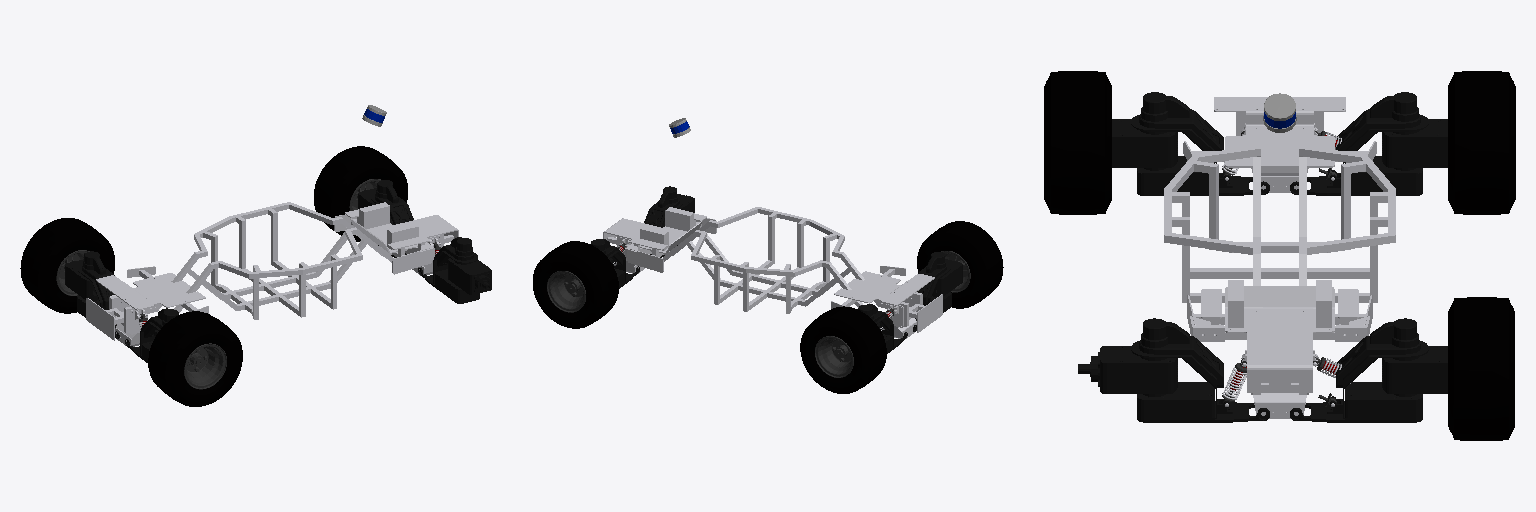
--- Render facts (derived) ---
The picture shows the robot from 3 angles, left to right: view 1: azimuth 30°, elevation 25°; view 2: azimuth 150°, elevation 25°; view 3: azimuth 270°, elevation 25°; orthographic projection.
Model m2 with 22 links and 21 joints (4 revolute, 16 continuous, 1 floating), rooted at world, posed every joint at zero.
Visible links, largest first — view 1: chassis, wheel_rb, wheel_lb, wheel_lf, steering_strut_rf, drive_motor_rf, steering_strut_lb, steering_strut_lf, steering_strut_rb, drive_motor_lb; view 2: chassis, wheel_lb, wheel_lf, wheel_rb, steering_strut_rb, steering_strut_rf, steering_strut_lb, steering_strut_lf, drive_motor_rb; view 3: chassis, wheel_lb, wheel_rb, wheel_lf, steering_strut_rf, steering_strut_lf, steering_strut_rb, steering_strut_lb, drive_motor_rf, drive_motor_lb, drive_motor_rb, drive_motor_lf (+1 smaller).
Boxes of the visible links, left/top/right/bottom form: chassis: left=86, top=105, right=458, bottom=346; wheel_rb: left=148, top=311, right=242, bottom=406; wheel_lb: left=20, top=218, right=114, bottom=313; wheel_lf: left=314, top=146, right=407, bottom=241; steering_strut_rf: left=418, top=237, right=479, bottom=303; drive_motor_rf: left=448, top=258, right=491, bottom=294; steering_strut_lb: left=77, top=251, right=119, bottom=338; steering_strut_lf: left=371, top=180, right=413, bottom=257; steering_strut_rb: left=125, top=308, right=178, bottom=362; drive_motor_lb: left=65, top=259, right=97, bottom=299; chassis: left=603, top=118, right=942, bottom=338; wheel_lb: left=800, top=306, right=886, bottom=393; wheel_lf: left=533, top=241, right=618, bottom=328; wheel_rb: left=917, top=221, right=1003, bottom=308; steering_strut_rb: left=913, top=252, right=951, bottom=331; steering_strut_rf: left=644, top=186, right=682, bottom=257; steering_strut_lb: left=858, top=304, right=907, bottom=353; steering_strut_lf: left=591, top=239, right=639, bottom=288; drive_motor_rb: left=932, top=259, right=962, bottom=296; chassis: left=1164, top=93, right=1395, bottom=418; wheel_lb: left=1448, top=71, right=1515, bottom=214; wheel_rb: left=1044, top=71, right=1111, bottom=214; wheel_lf: left=1448, top=297, right=1514, bottom=440; steering_strut_rf: left=1131, top=318, right=1269, bottom=422; steering_strut_lf: left=1290, top=318, right=1428, bottom=422; steering_strut_rb: left=1131, top=92, right=1269, bottom=195; steering_strut_lb: left=1290, top=92, right=1428, bottom=195; drive_motor_rf: left=1078, top=346, right=1177, bottom=393; drive_motor_lb: left=1382, top=119, right=1447, bottom=167; drive_motor_rb: left=1112, top=119, right=1177, bottom=167; drive_motor_lf: left=1382, top=346, right=1447, bottom=393.
Size in the robot's own frame: 2.11 by 1.46 by 1.02 metres.
Meshes: 26 distinct files referenced, 21 mesh visuals loaded (21 Collada DAE); not drawn: 5 (reference not matched to a file when rendering).

The robot description file, URDF, robot "m2":
<?xml version="1.0"?>
<!-- created with Phobos 1.0.1 "Capricious Choutengan" -->
  <robot name="m2">
    
    <link name="world"/>
    
    <link name="chassis">
      <inertial>`
        <origin xyz="0 0 0" rpy="0 0 0"/>
        <mass value="0.01"/>
        <inertia ixx="0.001" ixy="0" ixz="0" iyy="0.001" iyz="0" izz="0.001"/>
      </inertial>
      <visual name="body_lights">
        <origin xyz="0.07415 0.00012 0.24822" rpy="0 0 0"/>
        <geometry>
          <mesh filename="package://m2_description/meshes/dae/body_lights.dae" scale="1.0 1.0 1.0"/>
        </geometry>
        <material name="01 - Default.001"/>
      </visual>
      <visual name="body_vis">
        <origin xyz="0.01142 0.00023 0.57838" rpy="0 0 0"/>
        <geometry>
          <mesh filename="package://m2_description/meshes/dae/Untitled.213.dae" scale="1.0 1.0 1.0"/>
        </geometry>
        <material name="01 - Default.001"/>
      </visual>
      <visual name="chassis_vis">
        <origin xyz="0 0 0" rpy="0 0 0"/>
        <geometry>
          <mesh filename="package://m2_description/meshes/dae/chassis_vis.dae" scale="1.0 1.0 1.0"/>
        </geometry>
        <material name="01 - Default.001"/>
      </visual>
      <visual name="vlp16_front_vis">
        <origin xyz="0.54676 0.00037 0.72861" rpy="1.5708 0.46426 0"/>
        <geometry>
          <mesh filename="package://m2_description/meshes/dae/vlp16_front_vis.dae" scale="1.0 1.0 1.0"/>
        </geometry>
        <material name="01 - Default.001"/>
      </visual>
      <visual name="vlp16_top_vis">
        <origin xyz="0.11051 0.0014 1.04234" rpy="-1.5708 0 0"/>
        <geometry>
          <mesh filename="package://m2_description/meshes/dae/vlp16_top_vis.dae" scale="1.0 1.0 1.0"/>
        </geometry>
        <material name="01 - Default.001"/>
      </visual>
      <visual name="vlp32c_vis">
        <origin xyz="0.11195 0.00142 1.30874" rpy="-1.5708 0 0"/>
        <geometry>
          <mesh filename="package://m2_description/meshes/dae/vlp32c_vis.dae" scale="1.0 1.0 1.0"/>
        </geometry>
        <material name="01 - Default.001"/>
      </visual>
      <collision name="body">
        <origin xyz="0.00514 0.00023 0.42524" rpy="0 0 0"/>
        <geometry>
          <box size="2.01448 0.94935 1.16925"/>
        </geometry>
      </collision>
      <collision name="chassis">
        <origin xyz="0.01121 0.00023 0.02431" rpy="0 0 0"/>
        <geometry>
          <box size="1.9958 0.72 0.35508"/>
        </geometry>
      </collision>
      <collision name="vlp16_front">
        <origin xyz="0.55851 0.00023 0.74921" rpy="3.14159 0.46426 0"/>
        <geometry>
          <cylinder radius="0.05164" length="0.07275"/>
        </geometry>
      </collision>
      <collision name="vlp16_top">
        <origin xyz="0.11195 0.00142 1.07434" rpy="0 0 0"/>
        <geometry>
          <cylinder radius="0.05164" length="0.08686"/>
        </geometry>
      </collision>
      <collision name="vlp32c">
        <origin xyz="0.11195 0.0019 1.25215" rpy="0 0 0"/>
        <geometry>
          <cylinder radius="0.06976" length="0.25"/>
        </geometry>
      </collision>
    </link>

    <link name="drive_motor_lb">
      <inertial>
        <origin xyz="0 0 0" rpy="0 0 0"/>
        <mass value="0.001"/>
        <inertia ixx="0.001" ixy="0" ixz="0" iyy="0.001" iyz="0" izz="0.001"/>
      </inertial>
      <visual name="drive_motor_lb_vis">
        <origin xyz="0 0 0" rpy="0 0 0"/>
        <geometry>
          <mesh filename="package://m2_description/meshes/dae/drive_motor_lb_vis.dae" scale="1.0 1.0 1.0"/>
        </geometry>
        <material name="01 - Default.001"/>
      </visual>
      <collision name="drive_motor_lb_vis">
        <origin xyz="0 0.09943 0.0535" rpy="0 0 0"/>
        <geometry>
          <box size="0.129 0.34444 0.107"/>
        </geometry>
      </collision>
    </link>

    <link name="drive_motor_lf">
      <inertial>
        <origin xyz="0 0 0" rpy="0 0 0"/>
        <mass value="0.001"/>
        <inertia ixx="0.001" ixy="0" ixz="0" iyy="0.001" iyz="0" izz="0.001"/>
      </inertial>
      <visual name="drive_motor_lf_vis">
        <origin xyz="0 0 0" rpy="0 0 0"/>
        <geometry>
          <mesh filename="package://m2_description/meshes/dae/drive_motor_lf_vis.dae" scale="1.0 1.0 1.0"/>
        </geometry>
        <material name="01 - Default.001"/>
      </visual>
      <collision name="drive_motor_lf">
        <origin xyz="0 0.08243 0.0535" rpy="0 0 0"/>
        <geometry>
          <box size="0.129 0.31044 0.107"/>
        </geometry>
      </collision>
    </link>

    <link name="drive_motor_rb">
      <inertial>
        <origin xyz="0 0 0" rpy="0 0 0"/>
        <mass value="0.001"/>
        <inertia ixx="0.001" ixy="0" ixz="0" iyy="0.001" iyz="0" izz="0.001"/>
      </inertial>
      <visual name="drive_motor_rb_vis">
        <origin xyz="0 0 0" rpy="0 0 0"/>
        <geometry>
          <mesh filename="package://m2_description/meshes/dae/drive_motor_rb_vis.dae" scale="1.0 1.0 1.0"/>
        </geometry>
        <material name="01 - Default.001"/>
      </visual>
      <collision name="drive_motor_rb">
        <origin xyz="0 -0.09943 0.0535" rpy="0 0 0"/>
        <geometry>
          <box size="0.129 0.34444 0.107"/>
        </geometry>
      </collision>
    </link>

    <link name="drive_motor_rf">
      <inertial>
        <origin xyz="0 0 0" rpy="0 0 0"/>
        <mass value="0.001"/>
        <inertia ixx="0.001" ixy="0" ixz="0" iyy="0.001" iyz="0" izz="0.001"/>
      </inertial>
      <visual name="drive_motor_rf_vis">
        <origin xyz="0 0 0" rpy="0 0 0"/>
        <geometry>
          <mesh filename="package://m2_description/meshes/dae/drive_motor_rf_vis.dae" scale="1.0 1.0 1.0"/>
        </geometry>
        <material name="01 - Default.001"/>
      </visual>
      <collision name="drive_motor_rf">
        <origin xyz="0 -0.08243 0.0535" rpy="0 0 0"/>
        <geometry>
          <box size="0.129 0.31044 0.107"/>
        </geometry>
      </collision>
    </link>

    <link name="shock_lb_1">
      <inertial>
        <origin xyz="0 0 0" rpy="0 0 0"/>
        <mass value="0.001"/>
        <inertia ixx="0.001" ixy="0" ixz="0" iyy="0.001" iyz="0" izz="0.001"/>
      </inertial>
      <visual name="shock_lb_1_vis">
        <origin xyz="0 0 0" rpy="0.37525 -1.5708 0"/>
        <geometry>
          <mesh filename="package://m2_description/meshes/dae/shock_lb_1_vis.dae" scale="1.0 1.0 1.0"/>
        </geometry>
        <material name="01 - Default.001"/>
      </visual>
      <collision name="shock_lb_1">
        <origin xyz="0.0564 0.02221 0" rpy="0.37525 -1.5708 0"/>
        <geometry>
          <cylinder radius="0.026" length="0.143"/>
        </geometry>
      </collision>
    </link>

    <link name="shock_lb_2">
      <inertial>
        <origin xyz="0 0 0" rpy="0 0 0"/>
        <mass value="0.001"/>
        <inertia ixx="0.001" ixy="0" ixz="0" iyy="0.001" iyz="0" izz="0.001"/>
      </inertial>
      <visual name="shock_lb_2_vis">
        <origin xyz="0 0 0" rpy="0.37525 -1.5708 0"/>
        <geometry>
          <mesh filename="package://m2_description/meshes/dae/shock_lb_2_vis.dae" scale="1.0 1.0 1.0"/>
        </geometry>
        <material name="01 - Default.001"/>
      </visual>
      <collision name="shock_lb_2">
        <origin xyz="-0.01732 -0.00682 0" rpy="0.37525 -1.5708 0"/>
        <geometry>
          <cylinder radius="0.025" length="0.0588"/>
        </geometry>
      </collision>
    </link>

    <link name="shock_lf_1">
      <inertial>
        <origin xyz="0 0 0" rpy="0 0 0"/>
        <mass value="0.001"/>
        <inertia ixx="0.001" ixy="0" ixz="0" iyy="0.001" iyz="0" izz="0.001"/>
      </inertial>
      <visual name="shock_lf_1_vis">
        <origin xyz="0 0 0" rpy="0.37525 -1.5708 0"/>
        <geometry>
          <mesh filename="package://m2_description/meshes/dae/shock_lf_1_vis.dae" scale="1.0 1.0 1.0"/>
        </geometry>
        <material name="01 - Default.001"/>
      </visual>
      <collision name="shock_lf_1">
        <origin xyz="0.0564 0.02221 0" rpy="0.37525 -1.5708 0"/>
        <geometry>
          <cylinder radius="0.026" length="0.143"/>
        </geometry>
      </collision>
    </link>

    <link name="shock_lf_2">
      <inertial>
        <origin xyz="0 0 0" rpy="0 0 0"/>
        <mass value="0.001"/>
        <inertia ixx="0.001" ixy="0" ixz="0" iyy="0.001" iyz="0" izz="0.001"/>
      </inertial>
      <visual name="shock_lf_2_vis">
        <origin xyz="0 0 0" rpy="0.37525 -1.5708 0"/>
        <geometry>
          <mesh filename="package://m2_description/meshes/dae/shock_lf_2_vis.dae" scale="1.0 1.0 1.0"/>
        </geometry>
        <material name="01 - Default.001"/>
      </visual>
      <collision name="shock_lf_2">
        <origin xyz="-0.01732 -0.00682 0" rpy="0.37525 -1.5708 0"/>
        <geometry>
          <cylinder radius="0.025" length="0.0588"/>
        </geometry>
      </collision>
    </link>

    <link name="shock_rb_1">
      <inertial>
        <origin xyz="0 0 0" rpy="0 0 0"/>
        <mass value="0.001"/>
        <inertia ixx="0.001" ixy="0" ixz="0" iyy="0.001" iyz="0" izz="0.001"/>
      </inertial>
      <visual name="shock_rb_1_vis">
        <origin xyz="0 0 0" rpy="-0.37525 -1.5708 0"/>
        <geometry>
          <mesh filename="package://m2_description/meshes/dae/shock_rb_1_vis.dae" scale="1.0 1.0 1.0"/>
        </geometry>
        <material name="01 - Default.001"/>
      </visual>
      <collision name="shock_rb_1">
        <origin xyz="0.0564 -0.02221 0" rpy="-0.37525 -1.5708 0"/>
        <geometry>
          <cylinder radius="0.026" length="0.143"/>
        </geometry>
      </collision>
    </link>

    <link name="shock_rb_2">
      <inertial>
        <origin xyz="0 0 0" rpy="0 0 0"/>
        <mass value="0.001"/>
        <inertia ixx="0.001" ixy="0" ixz="0" iyy="0.001" iyz="0" izz="0.001"/>
      </inertial>
      <visual name="shock_rb_2_vis">
        <origin xyz="0 0 0" rpy="-0.37525 -1.5708 0"/>
        <geometry>
          <mesh filename="package://m2_description/meshes/dae/shock_rb_2_vis.dae" scale="1.0 1.0 1.0"/>
        </geometry>
        <material name="01 - Default.001"/>
      </visual>
      <collision name="shock_rb_2">
        <origin xyz="-0.01732 0.00682 0" rpy="-0.37525 -1.5708 0"/>
        <geometry>
          <cylinder radius="0.025" length="0.0588"/>
        </geometry>
      </collision>
    </link>

    <link name="shock_rf_1">
      <inertial>
        <origin xyz="0 0 0" rpy="0 0 0"/>
        <mass value="0.001"/>
        <inertia ixx="0.001" ixy="0" ixz="0" iyy="0.001" iyz="0" izz="0.001"/>
      </inertial>
      <visual name="shock_rf_1_vis">
        <origin xyz="0 0 0" rpy="-0.37525 -1.5708 0"/>
        <geometry>
          <mesh filename="package://m2_description/meshes/dae/shock_rf_1_vis.dae" scale="1.0 1.0 1.0"/>
        </geometry>
        <material name="01 - Default.001"/>
      </visual>
      <collision name="shock_rf_1">
        <origin xyz="0.0564 -0.02221 0" rpy="-0.37525 -1.5708 0"/>
        <geometry>
          <cylinder radius="0.026" length="0.143"/>
        </geometry>
      </collision>
    </link>

    <link name="shock_rf_2">
      <inertial>
        <origin xyz="0 0 0" rpy="0 0 0"/>
        <mass value="0.001"/>
        <inertia ixx="0.001" ixy="0" ixz="0" iyy="0.001" iyz="0" izz="0.001"/>
      </inertial>
      <visual name="shock_rf_2_vis">
        <origin xyz="0 0 0" rpy="-0.37525 -1.5708 0"/>
        <geometry>
          <mesh filename="package://m2_description/meshes/dae/shock_rf_2_vis.dae" scale="1.0 1.0 1.0"/>
        </geometry>
        <material name="01 - Default.001"/>
      </visual>
      <collision name="shock_rf_2">
        <origin xyz="-0.01732 0.00682 0" rpy="-0.37525 -1.5708 0"/>
        <geometry>
          <cylinder radius="0.025" length="0.0855"/>
        </geometry>
      </collision>
    </link>

    <link name="steering_strut_lb">
      <inertial>
        <origin xyz="0 0 0" rpy="0 0 0"/>
        <mass value="0.001"/>
        <inertia ixx="0.001" ixy="0" ixz="0" iyy="0.001" iyz="0" izz="0.001"/>
      </inertial>
      <visual name="steering_strut_lb_vis">
        <origin xyz="0 0 0" rpy="0 -1.5708 0"/>
        <geometry>
          <mesh filename="package://m2_description/meshes/dae/steering_strut_lb_vis.dae" scale="1.0 1.0 1.0"/>
        </geometry>
        <material name="01 - Default.001"/>
      </visual>
      <collision name="steering_strut_lb_vis">
        <origin xyz="-0.13494 0.19601 0" rpy="0 -1.5708 0"/>
        <geometry>
          <box size="0.129 0.43202 0.30988"/>
        </geometry>
      </collision>
    </link>

    <link name="steering_strut_lf">
      <inertial>
        <origin xyz="0 0 0" rpy="0 0 0"/>
        <mass value="0.001"/>
        <inertia ixx="0.001" ixy="0" ixz="0" iyy="0.001" iyz="0" izz="0.001"/>
      </inertial>
      <visual name="steering_strut_lf_vis">
        <origin xyz="0 0 0" rpy="0 -1.5708 0"/>
        <geometry>
          <mesh filename="package://m2_description/meshes/dae/steering_strut_lf_vis.dae" scale="1.0 1.0 1.0"/>
        </geometry>
        <material name="01 - Default.001"/>
      </visual>
      <collision name="steering_strut_lf">
        <origin xyz="-0.13494 0.19601 0" rpy="0 -1.5708 0"/>
        <geometry>
          <box size="0.129 0.43202 0.30988"/>
        </geometry>
      </collision>
    </link>

    <link name="steering_strut_rb">
      <inertial>
        <origin xyz="0 0 0" rpy="0 0 0"/>
        <mass value="0.001"/>
        <inertia ixx="0.001" ixy="0" ixz="0" iyy="0.001" iyz="0" izz="0.001"/>
      </inertial>
      <visual name="steering_strut_rb_vis">
        <origin xyz="0 0 0" rpy="0 -1.5708 0"/>
        <geometry>
          <mesh filename="package://m2_description/meshes/dae/steering_strut_rb_vis.dae" scale="1.0 1.0 1.0"/>
        </geometry>
        <material name="01 - Default.001"/>
      </visual>
      <collision name="steering_strut_rb">
        <origin xyz="-0.13494 -0.19601 0" rpy="0 -1.5708 0"/>
        <geometry>
          <box size="0.129 0.43202 0.30988"/>
        </geometry>
      </collision>
    </link>

    <link name="steering_strut_rf">
      <inertial>
        <origin xyz="0 0 0" rpy="0 0 0"/>
        <mass value="0.001"/>
        <inertia ixx="0.001" ixy="0" ixz="0" iyy="0.001" iyz="0" izz="0.001"/>
      </inertial>
      <visual name="steering_strut_rf_vis">
        <origin xyz="0 0 0" rpy="0 -1.5708 0"/>
        <geometry>
          <mesh filename="package://m2_description/meshes/dae/steering_strut_rf_vis.dae" scale="1.0 1.0 1.0"/>
        </geometry>
        <material name="01 - Default.001"/>
      </visual>
      <collision name="steering_strut_rf">
        <origin xyz="-0.13494 -0.19601 0" rpy="0 -1.5708 0"/>
        <geometry>
          <box size="0.129 0.43202 0.30988"/>
        </geometry>
      </collision>
    </link>

    <link name="wheel_lb">
      <inertial>
        <origin xyz="0 0 0" rpy="0 0 0"/>
        <mass value="0.001"/>
        <inertia ixx="0.001" ixy="0" ixz="0" iyy="0.001" iyz="0" izz="0.001"/>
      </inertial>
      <visual name="wheel_lb_vis">
        <origin xyz="3e-05 0.00876 0" rpy="0 0 0"/>
        <geometry>
          <mesh filename="package://m2_description/meshes/dae/wheel_lb_vis.dae" scale="1.0 1.0 1.0"/>
        </geometry>
        <material name="01 - Default.001"/>
      </visual>
      <collision name="wheel_lb">
        <origin xyz="0 0 0" rpy="1.5708 0 0"/>
        <geometry>
          <cylinder radius="0.22423" length="0.20878"/>
        </geometry>
      </collision>
    </link>

    <link name="wheel_lf">
      <inertial>
        <origin xyz="0 0 0" rpy="0 0 0"/>
        <mass value="0.001"/>
        <inertia ixx="0.001" ixy="0" ixz="0" iyy="0.001" iyz="0" izz="0.001"/>
      </inertial>
      <visual name="wheel_lf_vis">
        <origin xyz="0 0 0" rpy="0 0 0"/>
        <geometry>
          <mesh filename="package://m2_description/meshes/dae/wheel_lf_vis.dae" scale="1.0 1.0 1.0"/>
        </geometry>
        <material name="01 - Default.001"/>
      </visual>
      <collision name="wheel_lf">
        <origin xyz="3e-05 -0.00814 0" rpy="1.5708 0 0"/>
        <geometry>
          <cylinder radius="0.22423" length="0.20878"/>
        </geometry>
      </collision>
    </link>

    <link name="wheel_rb">
      <inertial>
        <origin xyz="0 0 0" rpy="0 0 0"/>
        <mass value="0.001"/>
        <inertia ixx="0.001" ixy="0" ixz="0" iyy="0.001" iyz="0" izz="0.001"/>
      </inertial>
      <visual name="wheel_rb_vis">
        <origin xyz="3e-05 -0.00876 0" rpy="0 0 0"/>
        <geometry>
          <mesh filename="package://m2_description/meshes/dae/wheel_rb_vis.dae" scale="1.0 1.0 1.0"/>
        </geometry>
        <material name="01 - Default.001"/>
      </visual>
      <collision name="wheel_rb">
        <origin xyz="0 0 0" rpy="1.5708 0 0"/>
        <geometry>
          <cylinder radius="0.22423" length="0.20878"/>
        </geometry>
      </collision>
    </link>

    <link name="wheel_rf">
      <inertial>
        <origin xyz="0 0 0" rpy="0 0 0"/>
        <mass value="0.001"/>
        <inertia ixx="0.001" ixy="0" ixz="0" iyy="0.001" iyz="0" izz="0.001"/>
      </inertial>
      <visual name="wheel_rf_vis">
        <origin xyz="-3e-05 -0.00814 0" rpy="0 0 0"/>
        <geometry>
          <mesh filename="package://m2_description/meshes/dae/wheel_rf_vis.dae" scale="1.0 1.0 1.0"/>
        </geometry>
        <material name="01 - Default.001"/>
      </visual>
      <collision name="wheel_rf">
        <origin xyz="0 0 0" rpy="1.5708 0 0"/>
        <geometry>
          <cylinder radius="0.22423" length="0.20878"/>
        </geometry>
      </collision>
    </link>

    <joint name="drive_motor_lb" type="revolute">
      <origin xyz="-0.07688 0.338 0" rpy="0 -1.5708 0"/>
      <parent link="steering_strut_lb"/>
      <child link="drive_motor_lb"/>
      <axis xyz="0 0 1.0"/>
      <limit lower="-3.141" upper="3.141" effort="0" velocity="0"/>
    </joint>

    <joint name="drive_motor_lf" type="revolute">
      <origin xyz="-0.07688 0.338 0" rpy="0 -1.5708 0"/>
      <parent link="steering_strut_lf"/>
      <child link="drive_motor_lf"/>
      <axis xyz="0 0 1.0"/>
      <limit lower="-3.141" upper="3.141" effort="0" velocity="0"/>
    </joint>

    <joint name="drive_motor_rb" type="revolute">
      <origin xyz="-0.07688 -0.338 0" rpy="0 -1.5708 0"/>
      <parent link="steering_strut_rb"/>
      <child link="drive_motor_rb"/>
      <axis xyz="0 0 1.0"/>
      <limit lower="-3.141" upper="3.141" effort="0" velocity="0"/>
    </joint>

    <joint name="drive_motor_rf" type="revolute">
      <origin xyz="-0.07688 -0.338 0" rpy="0 -1.5708 0"/>
      <parent link="steering_strut_rf"/>
      <child link="drive_motor_rf"/>
      <axis xyz="0 0 1.0"/>
      <limit lower="-3.141" upper="3.141" effort="0" velocity="0"/>
    </joint>

    <joint name="shock_lb_1" type="continuous">
      <origin xyz="-0.8202 0.10995 0.03063" rpy="0 1.5708 0"/>
      <parent link="chassis"/>
      <child link="shock_lb_1"/>
      <axis xyz="0 0 1.0"/>
      <limit effort="0" velocity="0"/>
    </joint>

    <joint name="shock_lb_2" type="continuous">
      <origin xyz="-0.02 0.114 -0.00044" rpy="0 0 0"/>
      <parent link="steering_strut_lb"/>
      <child link="shock_lb_2"/>
      <axis xyz="0 0 1.0"/>
      <limit effort="0" velocity="0"/>
    </joint>

    <joint name="shock_lf_1" type="continuous">
      <origin xyz="0.84304 0.10995 0.03063" rpy="0 1.5708 0"/>
      <parent link="chassis"/>
      <child link="shock_lf_1"/>
      <axis xyz="0 0 1.0"/>
      <limit effort="0" velocity="0"/>
    </joint>

    <joint name="shock_lf_2" type="continuous">
      <origin xyz="-0.02 0.114 0.00043" rpy="0 0 0"/>
      <parent link="steering_strut_lf"/>
      <child link="shock_lf_2"/>
      <axis xyz="0 0 1.0"/>
      <limit effort="0" velocity="0"/>
    </joint>

    <joint name="shock_rb_1" type="continuous">
      <origin xyz="-0.8202 -0.1095 0.03063" rpy="0 1.5708 0"/>
      <parent link="chassis"/>
      <child link="shock_rb_1"/>
      <axis xyz="0 0 1.0"/>
      <limit effort="0" velocity="0"/>
    </joint>

    <joint name="shock_rb_2" type="continuous">
      <origin xyz="-0.02 -0.114 -0.00044" rpy="0 0 0"/>
      <parent link="steering_strut_rb"/>
      <child link="shock_rb_2"/>
      <axis xyz="0 0 1.0"/>
      <limit effort="0" velocity="0"/>
    </joint>

    <joint name="shock_rf_1" type="continuous">
      <origin xyz="0.84304 -0.1095 0.03063" rpy="0 1.5708 0"/>
      <parent link="chassis"/>
      <child link="shock_rf_1"/>
      <axis xyz="0 0 1.0"/>
      <limit effort="0" velocity="0"/>
    </joint>

    <joint name="shock_rf_2" type="continuous">
      <origin xyz="-0.02 -0.114 0.00044" rpy="0 0 0"/>
      <parent link="steering_strut_rf"/>
      <child link="shock_rf_2"/>
      <axis xyz="0 0 1.0"/>
      <limit effort="0" velocity="0"/>
    </joint>

    <joint name="steering_strut_lb" type="continuous">
      <origin xyz="-0.81976 0.05092 -0.12893" rpy="0 1.5708 0"/>
      <parent link="chassis"/>
      <child link="steering_strut_lb"/>
      <axis xyz="0 0 1.0"/>
      <limit effort="0" velocity="0"/>
    </joint>

    <joint name="steering_strut_lf" type="continuous">
      <origin xyz="0.8426 0.05092 -0.12893" rpy="0 1.5708 0"/>
      <parent link="chassis"/>
      <child link="steering_strut_lf"/>
      <axis xyz="0 0 1.0"/>
      <limit effort="0" velocity="0"/>
    </joint>

    <joint name="steering_strut_rb" type="continuous">
      <origin xyz="-0.81976 -0.05047 -0.12893" rpy="0 1.5708 0"/>
      <parent link="chassis"/>
      <child link="steering_strut_rb"/>
      <axis xyz="0 0 1.0"/>
      <limit effort="0" velocity="0"/>
    </joint>

    <joint name="steering_strut_rf" type="continuous">
      <origin xyz="0.8426 -0.05047 -0.12893" rpy="0 1.5708 0"/>
      <parent link="chassis"/>
      <child link="steering_strut_rf"/>
      <axis xyz="0 0 1.0"/>
      <limit effort="0" velocity="0"/>
    </joint>

    <joint name="wheel_lb" type="continuous">
      <origin xyz="0 0.22997 0.0559" rpy="0 0 0"/>
      <parent link="drive_motor_lb"/>
      <child link="wheel_lb"/>
      <axis xyz="0 -1.0 0"/>
      <limit effort="0" velocity="0"/>
    </joint>

    <joint name="wheel_lf" type="continuous">
      <origin xyz="-3e-05 0.23811 0.0559" rpy="0 0 0"/>
      <parent link="drive_motor_lf"/>
      <child link="wheel_lf"/>
      <axis xyz="0 -1.0 0"/>
      <limit effort="0" velocity="0"/>
    </joint>

    <joint name="wheel_rb" type="continuous">
      <origin xyz="0 -0.22997 0.0559" rpy="0 0 0"/>
      <parent link="drive_motor_rb"/>
      <child link="wheel_rb"/>
      <axis xyz="0 -1.0 0"/>
      <limit effort="0" velocity="0"/>
    </joint>

    <joint name="wheel_rf" type="continuous">
      <origin xyz="0 -0.22997 0.0559" rpy="0 0 0"/>
      <parent link="drive_motor_rf"/>
      <child link="wheel_rf"/>
      <axis xyz="0 -1.0 0"/>
      <limit effort="0" velocity="0"/>
    </joint>

    <joint name="world" type="floating">
      <origin xyz="0 0 0" rpy="0 0 0"/>
      <parent link="world"/>
      <child link="chassis"/>
    </joint>

    <transmission name="wheel_rf">
      <type>transmission_interface/SimpleTransmission</type>
        <joint name="wheel_rf">
          <hardwareInterface>hardware_interface/EffortJointInterface</hardwareInterface>
        </joint>
        <actuator name="wheel_rf">
          <mechanicalReduction>1</mechanicalReduction>
          <hardwareInterface>hardware_interface/EffortJointInterface</hardwareInterface>
        </actuator>
    </transmission>

    <transmission name="wheel_lf">
      <type>transmission_interface/SimpleTransmission</type>
        <joint name="wheel_lf">
          <hardwareInterface>hardware_interface/EffortJointInterface</hardwareInterface>
        </joint>
        <actuator name="wheel_lf">
          <mechanicalReduction>1</mechanicalReduction>
          <hardwareInterface>hardware_interface/EffortJointInterface</hardwareInterface>
        </actuator>
    </transmission>

    <transmission name="wheel_rb">
      <type>transmission_interface/SimpleTransmission</type>
        <joint name="wheel_rb">
          <hardwareInterface>hardware_interface/EffortJointInterface</hardwareInterface>
        </joint>
        <actuator name="wheel_rb">
          <mechanicalReduction>1</mechanicalReduction>
          <hardwareInterface>hardware_interface/EffortJointInterface</hardwareInterface>
        </actuator>
    </transmission>

    <transmission name="wheel_lb">
      <type>transmission_interface/SimpleTransmission</type>
        <joint name="wheel_lb">
          <hardwareInterface>hardware_interface/EffortJointInterface</hardwareInterface>
        </joint>
        <actuator name="wheel_lb">
          <mechanicalReduction>1</mechanicalReduction>
          <hardwareInterface>hardware_interface/EffortJointInterface</hardwareInterface>
        </actuator>
    </transmission>

    <transmission name="steering_rf">
      <type>transmission_interface/SimpleTransmission</type>
        <joint name="steering_rf">
          <hardwareInterface>hardware_interface/EffortJointInterface</hardwareInterface>
        </joint>
        <actuator name="steering_rf">
          <mechanicalReduction>1</mechanicalReduction>
          <hardwareInterface>hardware_interface/EffortJointInterface</hardwareInterface>
        </actuator>
    </transmission>

    <transmission name="steering_lf">
      <type>transmission_interface/SimpleTransmission</type>
        <joint name="steering_lf">
          <hardwareInterface>hardware_interface/EffortJointInterface</hardwareInterface>
        </joint>
        <actuator name="steering_lf">
          <mechanicalReduction>1</mechanicalReduction>
          <hardwareInterface>hardware_interface/EffortJointInterface</hardwareInterface>
        </actuator>
    </transmission>

    <transmission name="steering_rb">
      <type>transmission_interface/SimpleTransmission</type>
        <joint name="steering_rb">
          <hardwareInterface>hardware_interface/EffortJointInterface</hardwareInterface>
        </joint>
        <actuator name="steering_rb">
          <mechanicalReduction>1</mechanicalReduction>
          <hardwareInterface>hardware_interface/EffortJointInterface</hardwareInterface>
        </actuator>
    </transmission>

    <transmission name="steering_lb">
      <type>transmission_interface/SimpleTransmission</type>
        <joint name="steering_lb">
          <hardwareInterface>hardware_interface/EffortJointInterface</hardwareInterface>
        </joint>
        <actuator name="steering_lb">
          <mechanicalReduction>1</mechanicalReduction>
          <hardwareInterface>hardware_interface/EffortJointInterface</hardwareInterface>
        </actuator>
    </transmission>

    <gazebo>
      
      <joint name="shock_lf" type="prismatic">
        <child>shock_lf_1</child>
        <parent>shock_lf_2</parent>
        <axis>
          <xyz>0 0 1</xyz>
          <limit>
            <lower>-0.025</lower>
            <upper>0.025</upper>
          </limit>
        </axis>
      </joint>

      <joint name="shock_lb" type="prismatic">
        <child>shock_lb_1</child>
        <parent>shock_lb_2</parent>
        <axis>
          <xyz>0 0 1</xyz>
          <limit>
            <lower>-0.025</lower>
            <upper>0.025</upper>
          </limit>
        </axis>
      </joint>

      <joint name="shock_rf" type="prismatic">
        <child>shock_rf_1</child>
        <parent>shock_rf_2</parent>
        <axis>
          <xyz>0 0 1</xyz>
          <limit>
            <lower>-0.025</lower>
            <upper>0.025</upper>
          </limit>
        </axis>
      </joint>

      <joint name="shock_rb" type="prismatic">
        <child>shock_rb_1</child>
        <parent>shock_rb_2</parent>
        <axis>
          <xyz>0 0 1</xyz>
          <limit>
            <lower>-0.025</lower>
            <upper>0.025</upper>
          </limit>
        </axis>
      </joint>

      <plugin name="gazebo_ros_control" filename="libgazebo_ros_control.so">
        <robotNamespace>m2</robotNamespace>
      </plugin>

    </gazebo>

  </robot>
